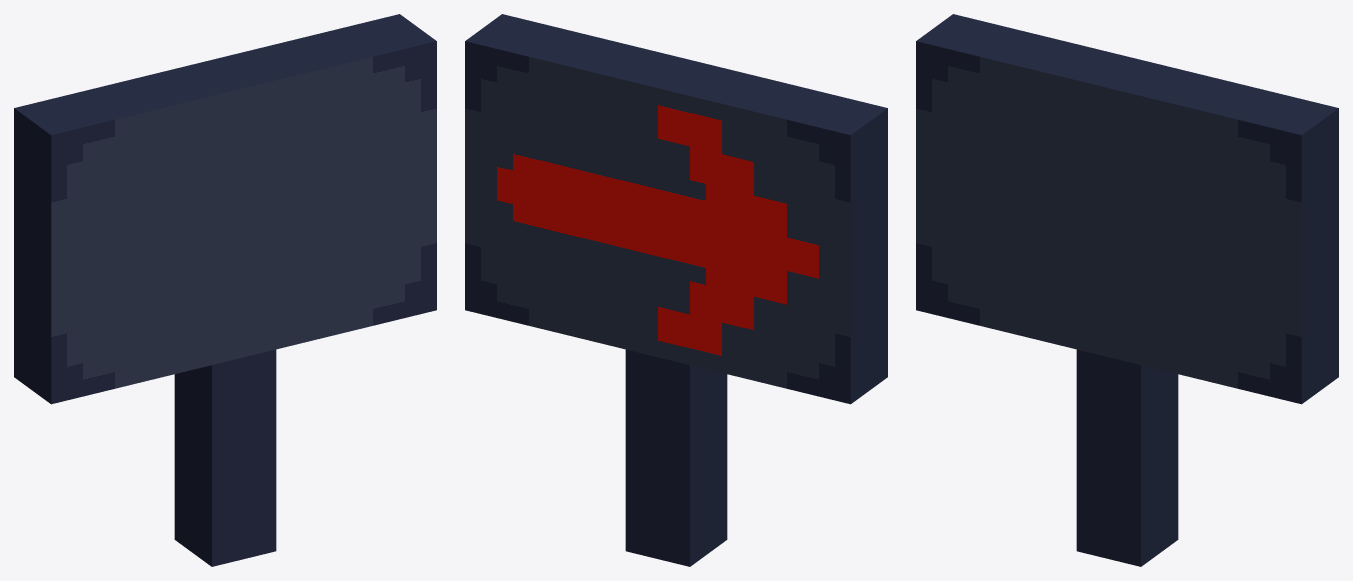
The model's file is cartel.fbx.
The picture shows the model from 3 angles, left to right: view 1: azimuth 30°, elevation 25°; view 2: azimuth 150°, elevation 25°; view 3: azimuth 330°, elevation 25°; orthographic projection.
Visible parts, largest first — view 1: group; view 2: group; view 3: group.
Part boxes in pixels (left/top/right/bottom): group: left=14, top=14, right=436, bottom=566; group: left=465, top=14, right=887, bottom=566; group: left=916, top=14, right=1338, bottom=566.
Bounding box in the file's own units: 37.5 × 43.75 × 6.25.
Materials: 1 (1 with a texture image).
